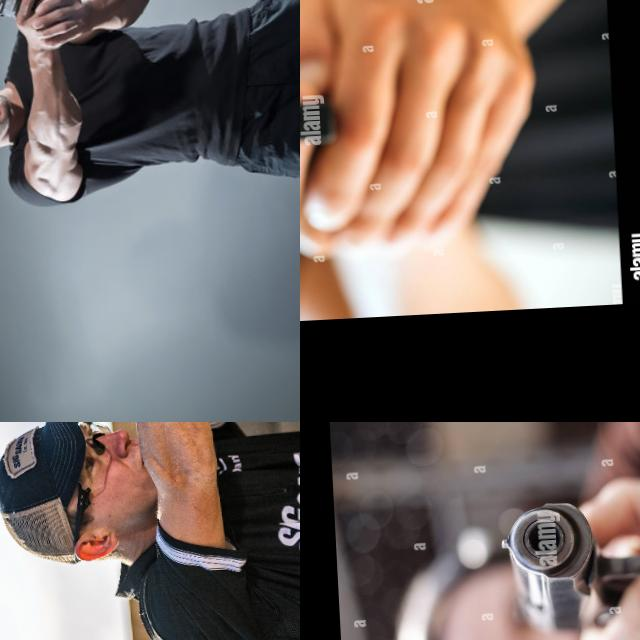handgun: (498, 491, 640, 636), (300, 72, 406, 179), (0, 422, 82, 495), (0, 0, 46, 41)
